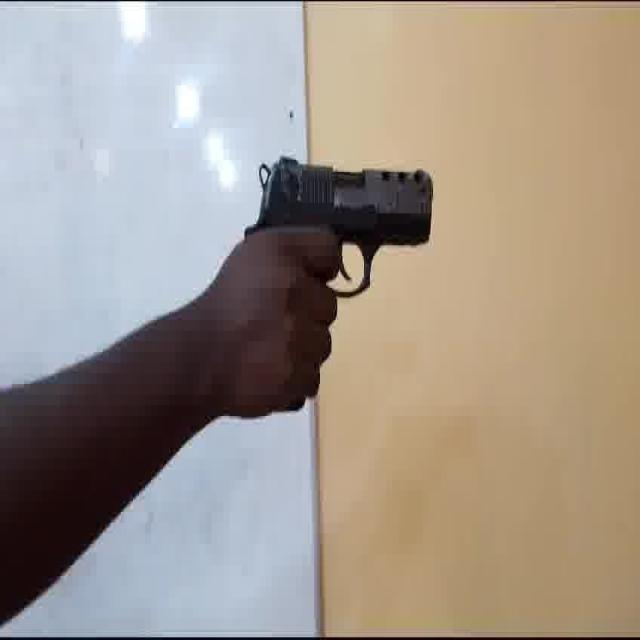weapon: (240, 155, 434, 303)
